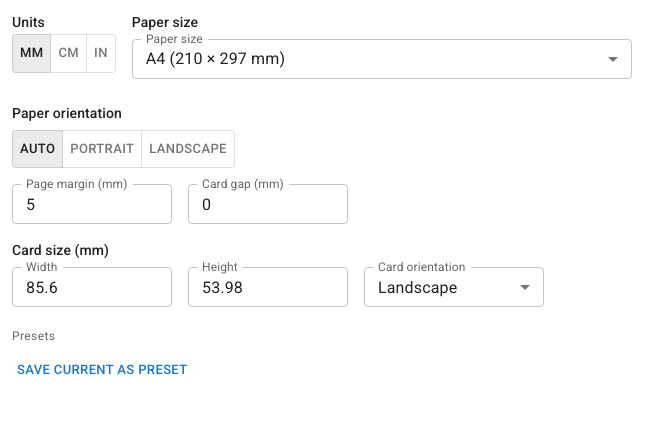
PrintSettings — paper size › selecting "Custom" reveals width/height fields without changing settings yet
This screenshot has width=655, height=432.
Click the dropdown labelled "A4 (210 × 297 mm)" at {"x": 216, "y": 59}, box x1=146 y1=49 x2=285 y2=68
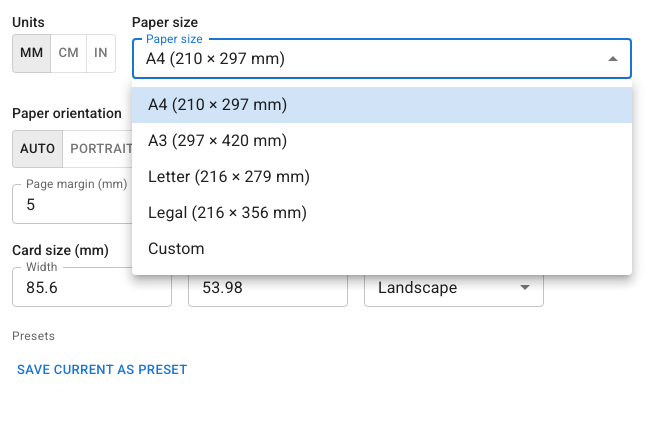
Click the option "Custom" at {"x": 176, "y": 248}, box x1=148 y1=239 x2=205 y2=258
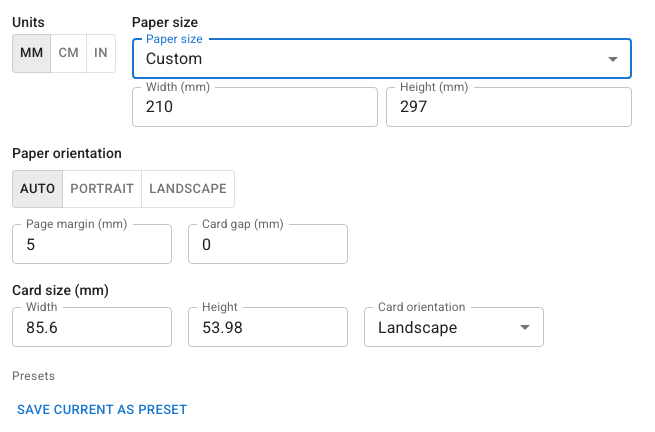
Expected: the number field labelled "Width (mm)" is shown, x1=132 y1=87 x2=378 y2=127
